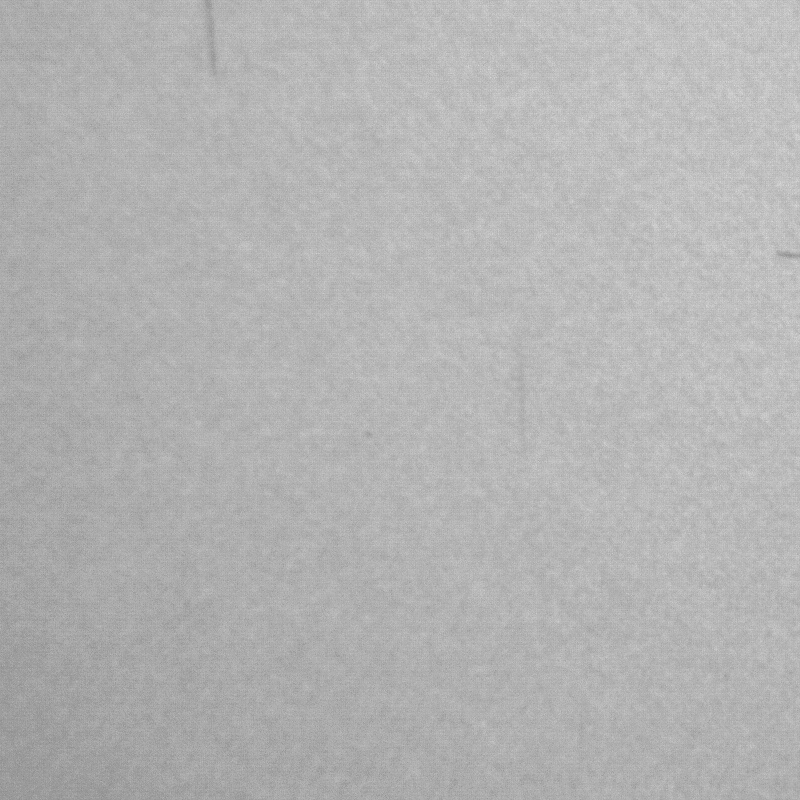defect: (206, 3, 226, 85), (516, 347, 529, 448), (779, 247, 800, 262)
